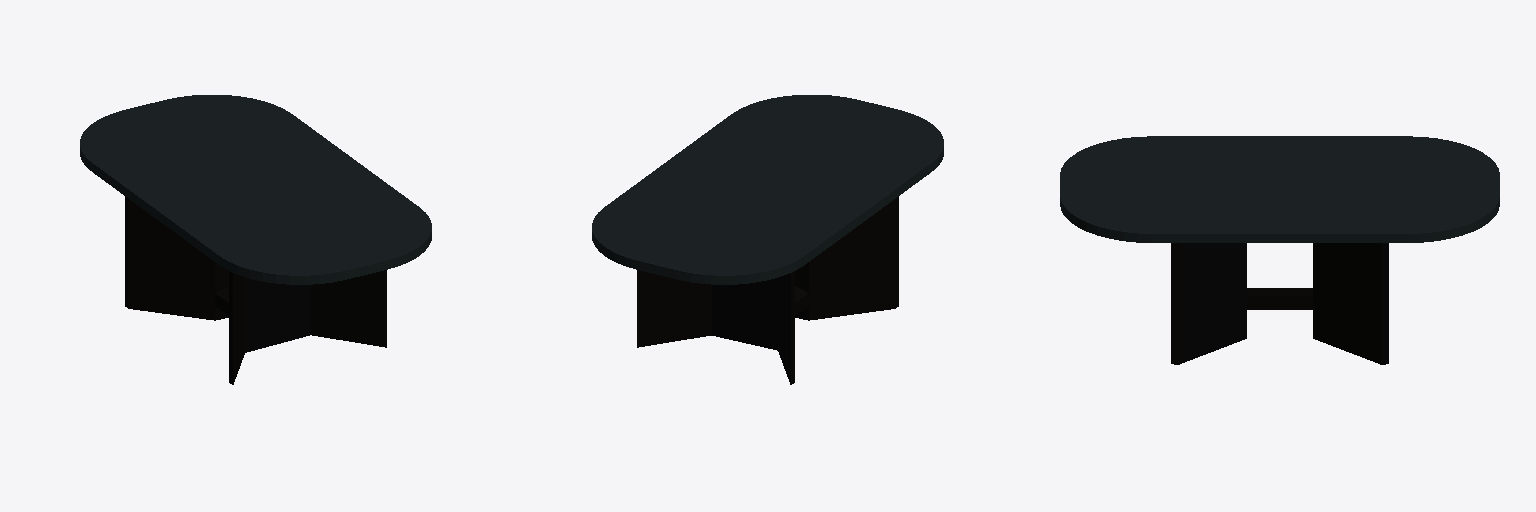
Rendered from table.obj.
The picture shows the model from 3 angles: view 1: azimuth 30°, elevation 25°; view 2: azimuth 150°, elevation 25°; view 3: azimuth 270°, elevation 25°; orthographic projection.
Visible parts, largest first — view 1: polySurface534_polySurface534; view 2: polySurface534_polySurface534; view 3: polySurface534_polySurface534.
Part boxes in pixels (x1,y1,x2,y2): polySurface534_polySurface534: (80, 95, 431, 384); polySurface534_polySurface534: (592, 95, 943, 384); polySurface534_polySurface534: (1060, 136, 1499, 364).
Bounding box in the file's own units: 62.95 × 42.6 × 120.